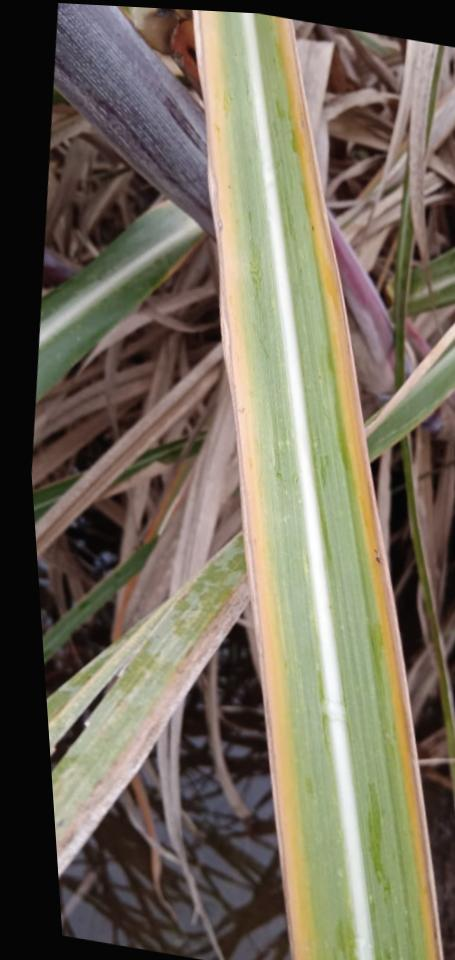Rust: (372, 549, 381, 565)
Yellow: (275, 16, 442, 960), (194, 10, 316, 960)
